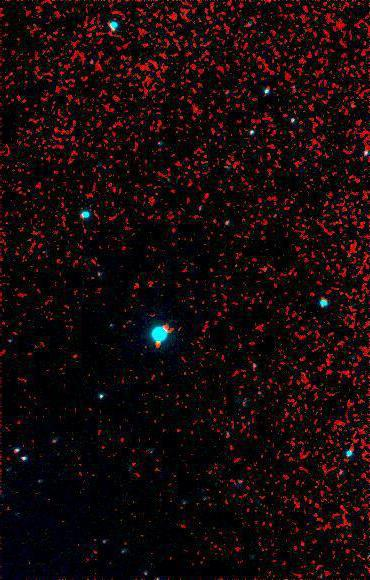star: (142, 331, 172, 361)
